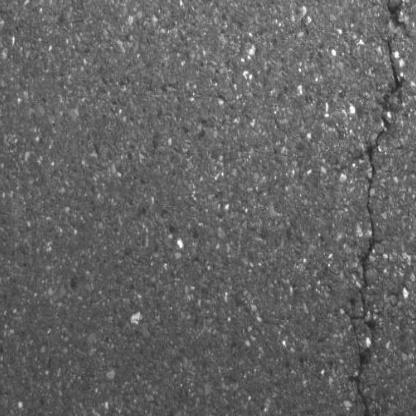Cracks: (343, 34, 407, 416), (375, 0, 411, 33)
